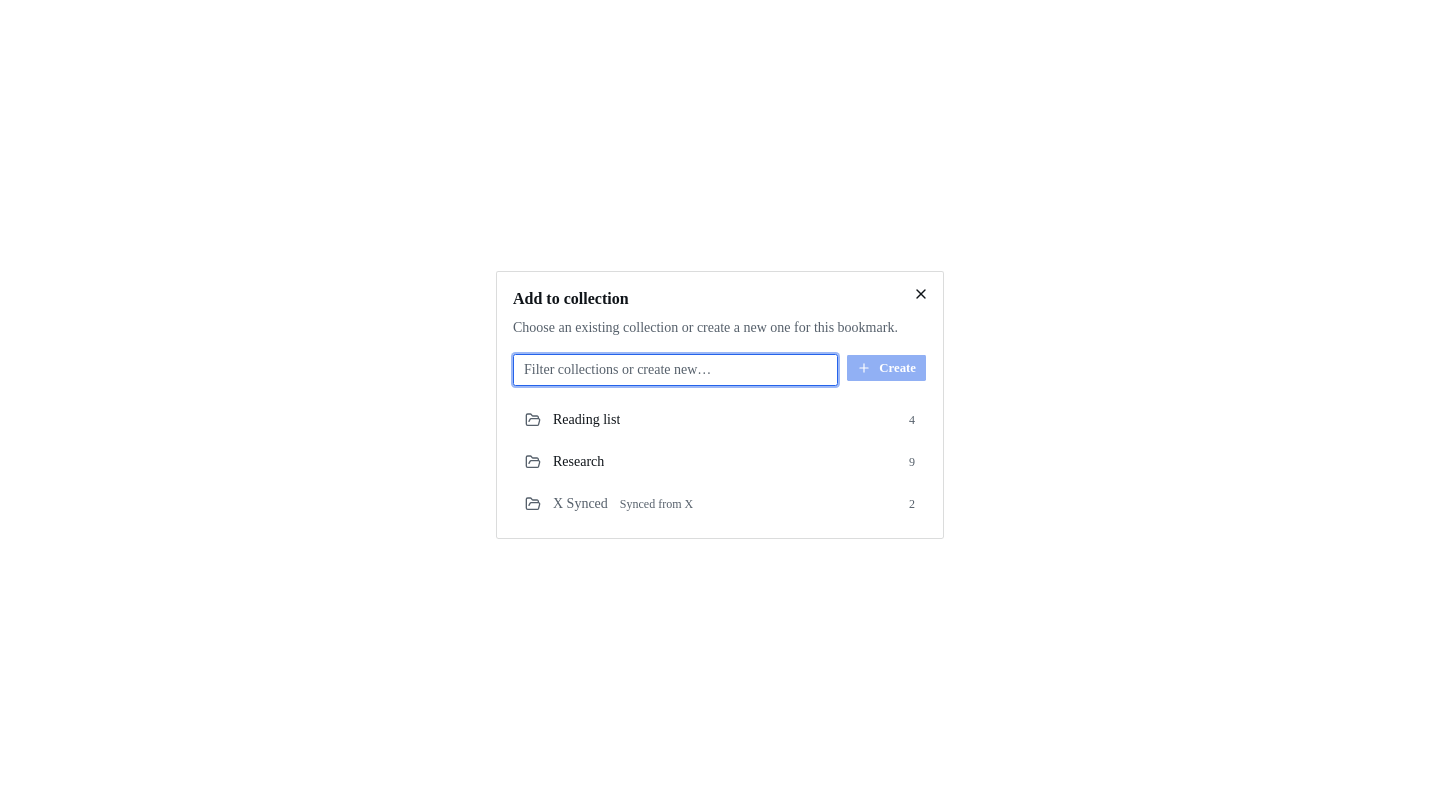
Test: AddToCollectionDialog › filters collection rows as the user types
Expected: the button "Reading list 4" is shown, [513,402,927,438]
Type "rese" into the field with placeholder "Filter collections or create new…" at (676, 370), box [513,354,838,386]
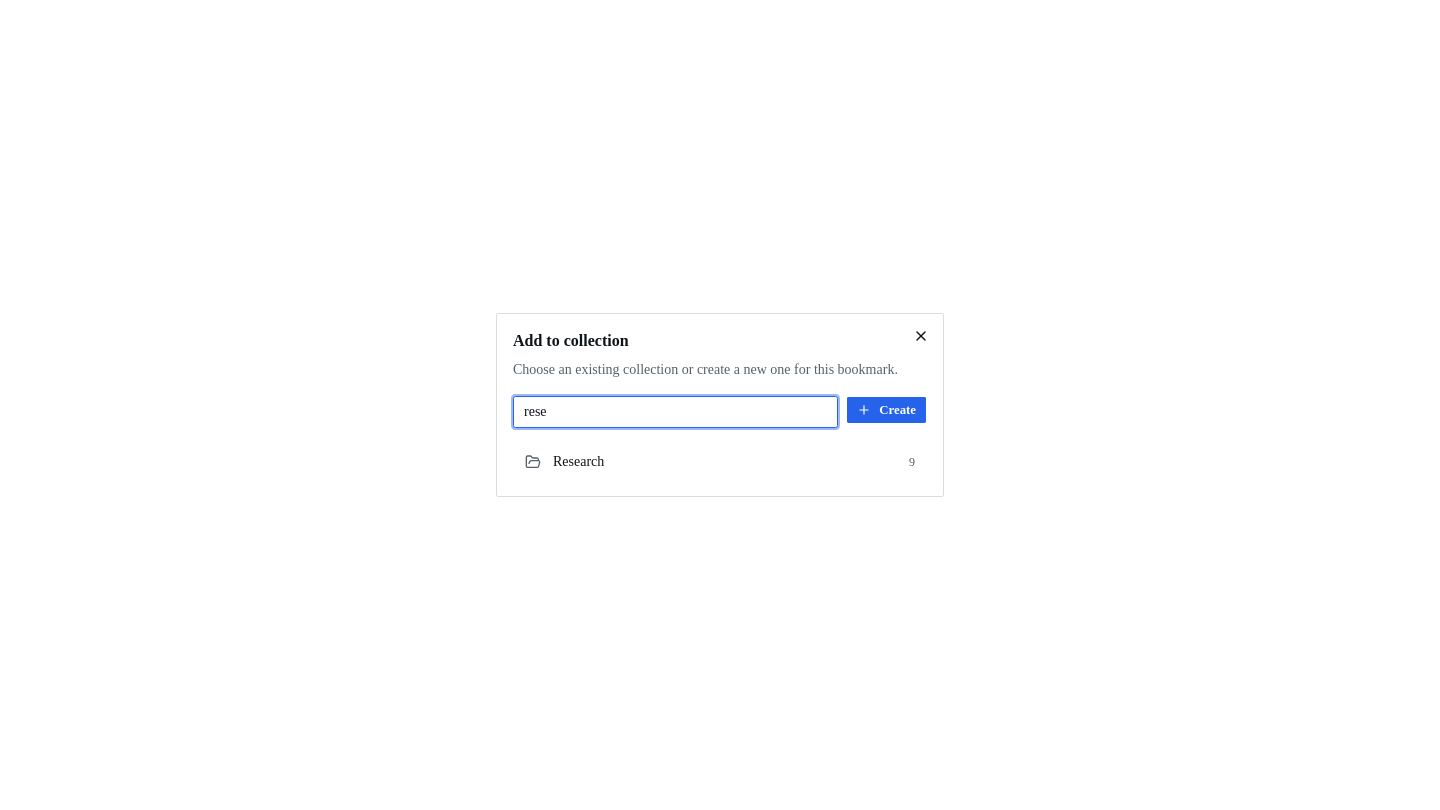
Expected: the button "Research 9" is shown, [513,444,927,480]
Now the button "Reading list" is gone
